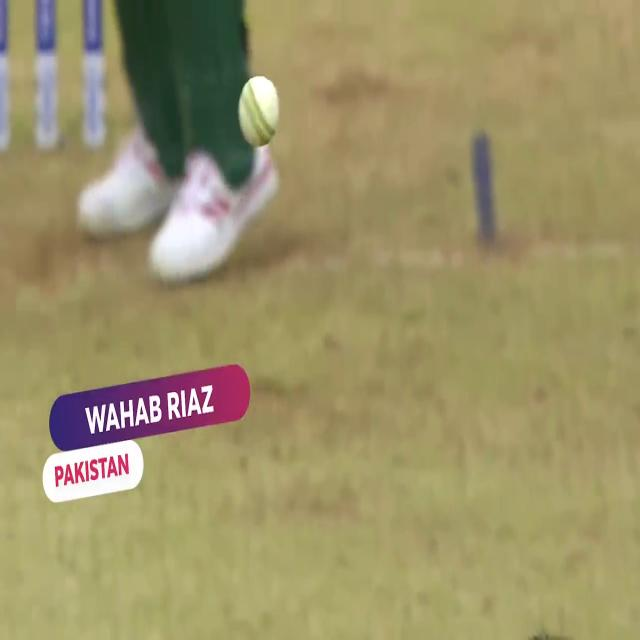ball: (230, 49, 292, 163)
